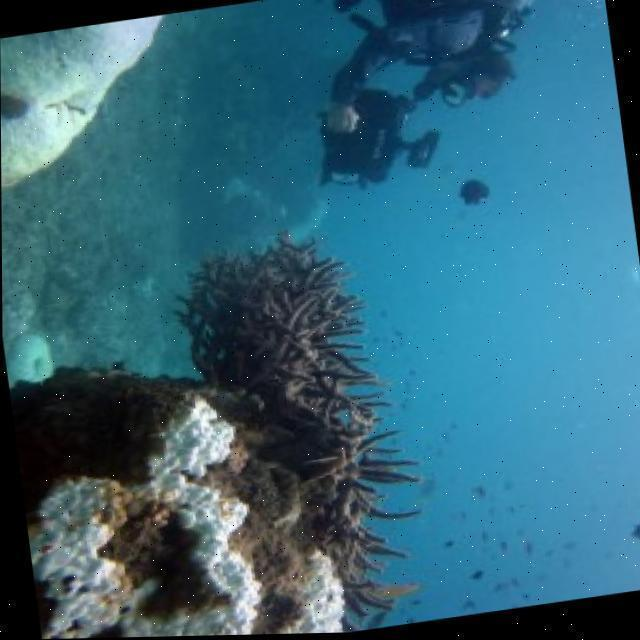Bleached Coral: (13, 395, 266, 640), (0, 8, 217, 198), (281, 531, 359, 635)
